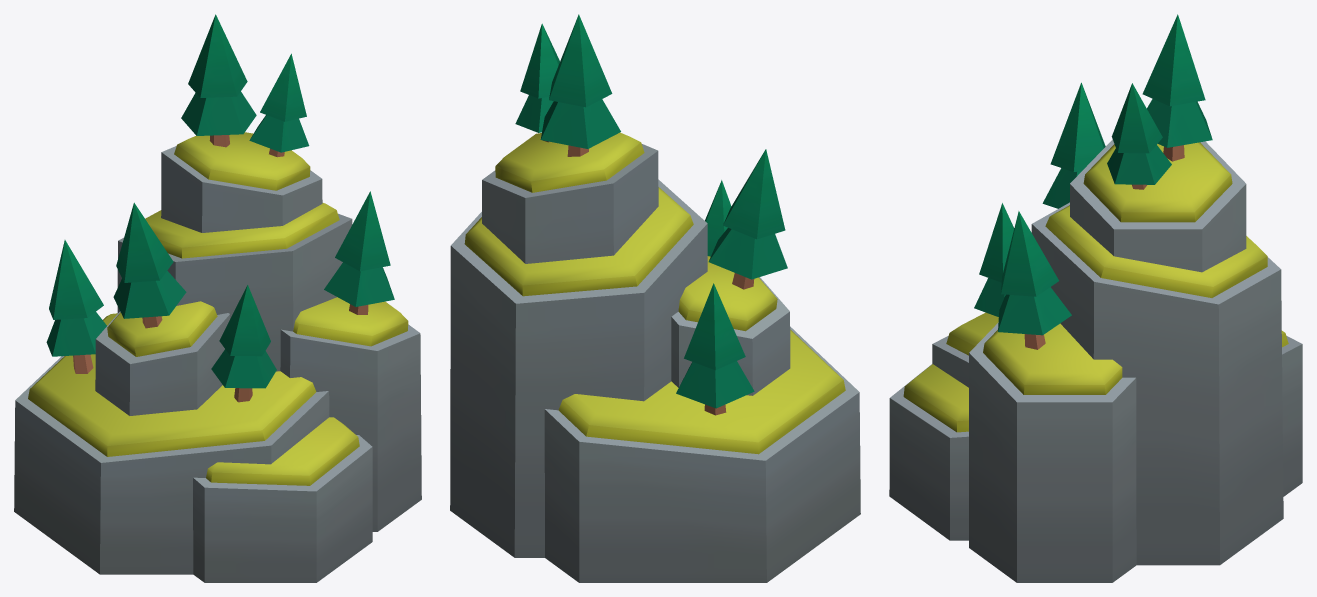
The model's file is kay-montanha-verde-b.gltf.
The picture shows the model from 3 angles, left to right: view 1: azimuth 30°, elevation 25°; view 2: azimuth 150°, elevation 25°; view 3: azimuth 270°, elevation 25°; orthographic projection. The views are drawn at different scales.
Visible parts, largest first — view 1: mountain_B_grass_trees; view 2: mountain_B_grass_trees; view 3: mountain_B_grass_trees.
Boxes of the visible parts, box(x1,y1,x2,y2) form: mountain_B_grass_trees: box(14, 14, 421, 582); mountain_B_grass_trees: box(450, 14, 860, 582); mountain_B_grass_trees: box(889, 14, 1302, 582).
Bounding box in the file's own units: 9.01 × 12.52 × 9.38.
Materials: 1 (1 with a texture image).
